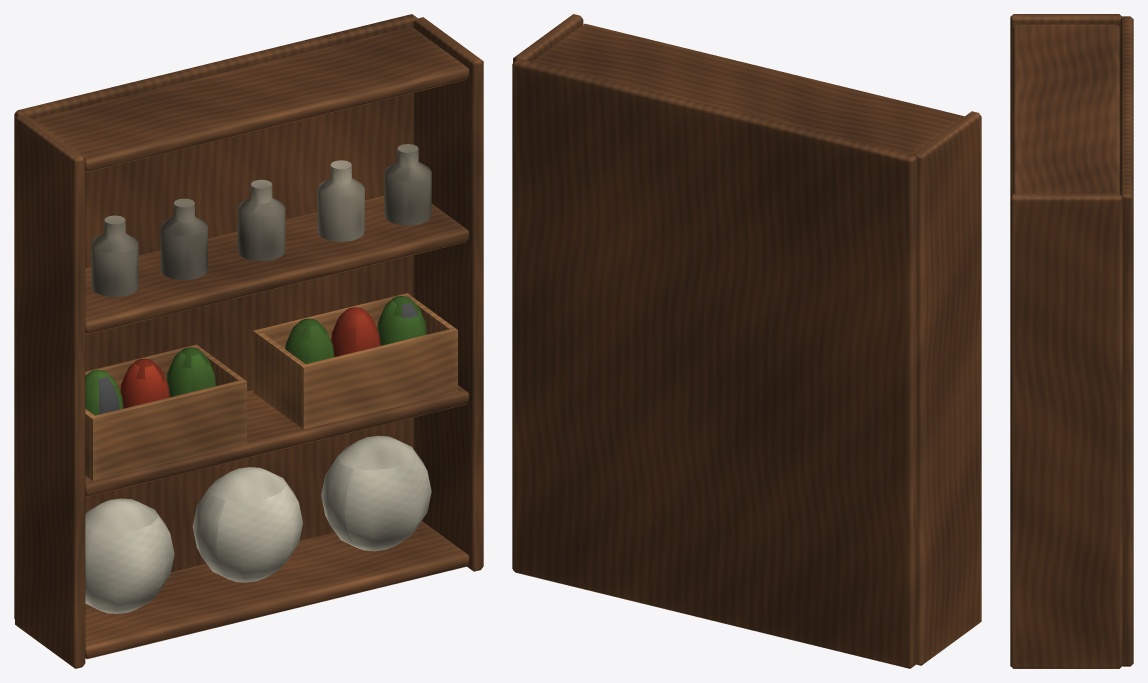
The model's file is Furn_Cook_Pantry.fbx.
The picture shows the model from 3 angles, left to right: view 1: azimuth 30°, elevation 25°; view 2: azimuth 150°, elevation 25°; view 3: azimuth 270°, elevation 25°; orthographic projection. The views are drawn at different scales.
Parts seen in each view (by area): view 1: Furn_Cook_Pantry; view 2: Furn_Cook_Pantry; view 3: Furn_Cook_Pantry.
Part boxes in pixels (x1,y1,x2,y2): Furn_Cook_Pantry: [14, 14, 483, 668]; Furn_Cook_Pantry: [512, 14, 981, 668]; Furn_Cook_Pantry: [1010, 14, 1133, 668].
Bounding box in the file's own units: 1.6 × 1.9 × 0.45.
4 materials, 4 textured.
